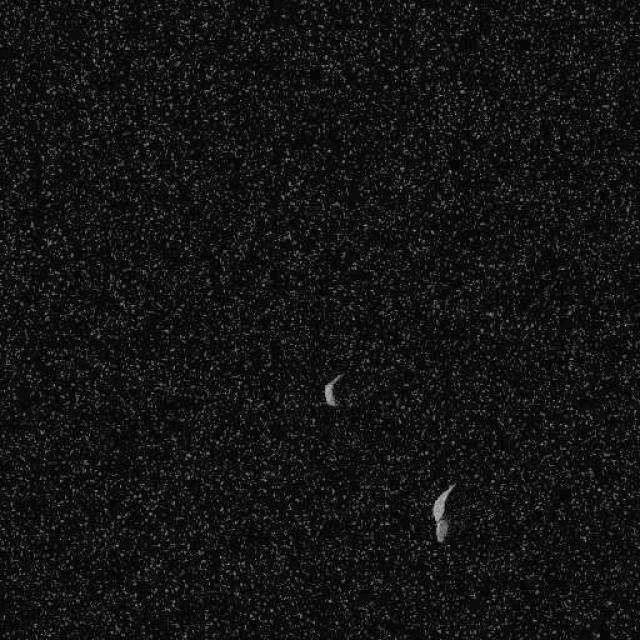D2: (430, 482, 456, 542), (323, 372, 345, 408)
